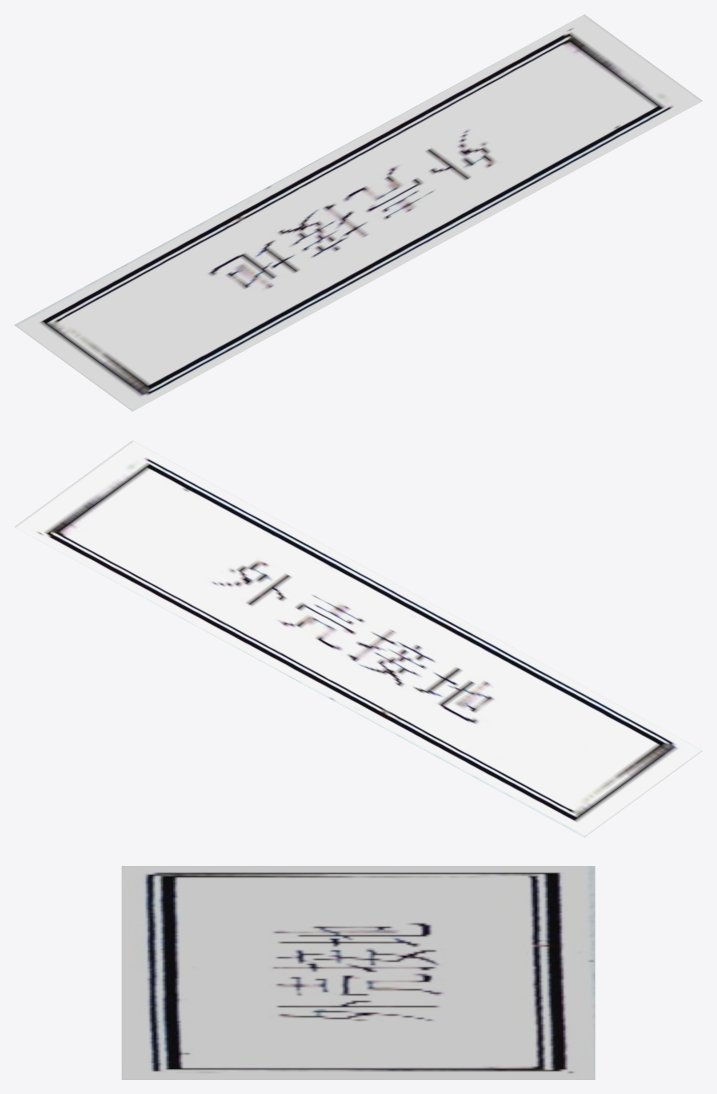
Rendered from mp-3178-geode.glb.
3 renders of one model, top to bottom at view 1: azimuth 30°, elevation 25°; view 2: azimuth 150°, elevation 25°; view 3: azimuth 270°, elevation 25°, orthographic. The views are drawn at different scales.
Parts seen in each view (by area): view 1: Node; view 2: Node; view 3: Node.
Boxes of the visible parts, x1=… form: Node: x1=14, y1=14, x2=702, y2=411; Node: x1=14, y1=440, x2=702, y2=837; Node: x1=121, y1=866, x2=595, y2=1079.
Bounding box in the file's own units: 0.0553 × 0.0159 × 0.0199.
Materials: 1 (1 with a texture image).
